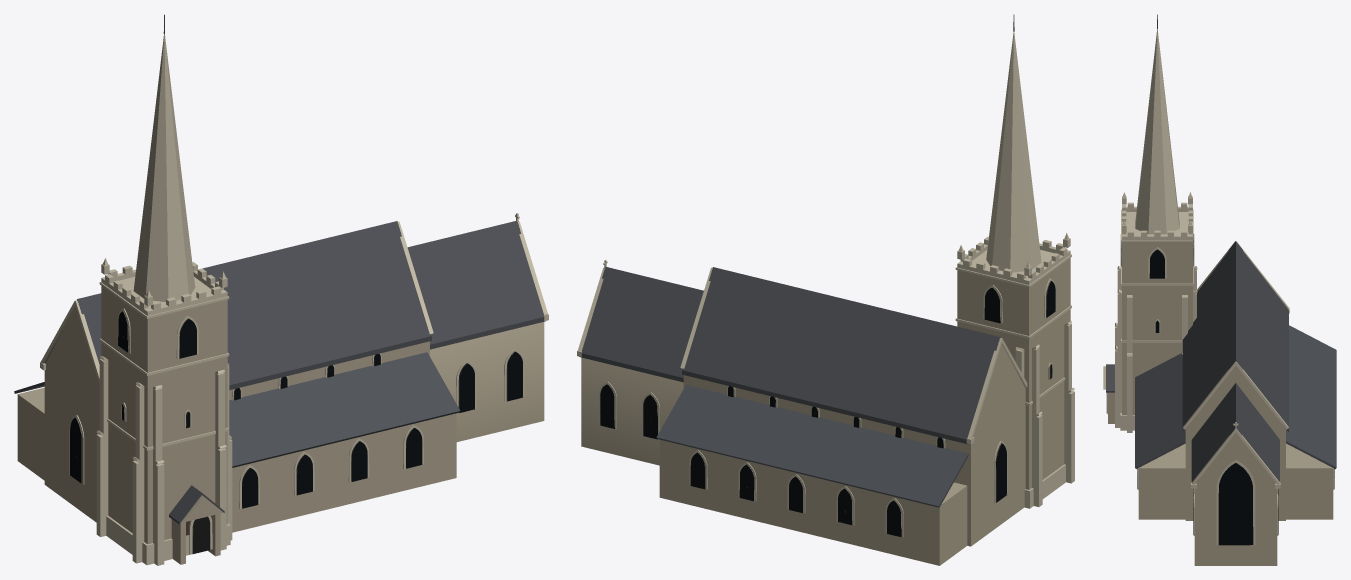
Rendered from context.church.town_needle.glb.
3 views of the same model, side by side, from view 1: azimuth 30°, elevation 25°; view 2: azimuth 150°, elevation 25°; view 3: azimuth 270°, elevation 25° (orthographic). The views are drawn at different scales.
Parts seen in each view (by area): view 1: main__stone_aa8, main__clad_455, main__stone_cba, main__glass_dark, main__stone_987; view 2: main__clad_455, main__stone_aa8, main__stone_cba, main__glass_dark; view 3: main__clad_455, main__stone_aa8, main__stone_cba, main__glass_dark.
Boxes of the visible parts, bbox=[...] form: main__stone_aa8: bbox=[17, 286, 544, 564]; main__clad_455: bbox=[14, 221, 545, 524]; main__stone_cba: bbox=[40, 33, 548, 565]; main__glass_dark: bbox=[70, 311, 522, 508]; main__stone_987: bbox=[69, 311, 523, 535]; main__clad_455: bbox=[579, 267, 1025, 507]; main__stone_aa8: bbox=[581, 258, 1070, 565]; main__stone_cba: bbox=[577, 32, 1074, 537]; main__glass_dark: bbox=[600, 281, 1055, 537]; main__clad_455: bbox=[1106, 241, 1336, 483]; main__stone_aa8: bbox=[1103, 242, 1333, 565]; main__stone_cba: bbox=[1107, 29, 1333, 544]; main__glass_dark: bbox=[1121, 234, 1334, 545].
Bounding box in the file's own units: 34.07 × 37.51 × 19.8.
